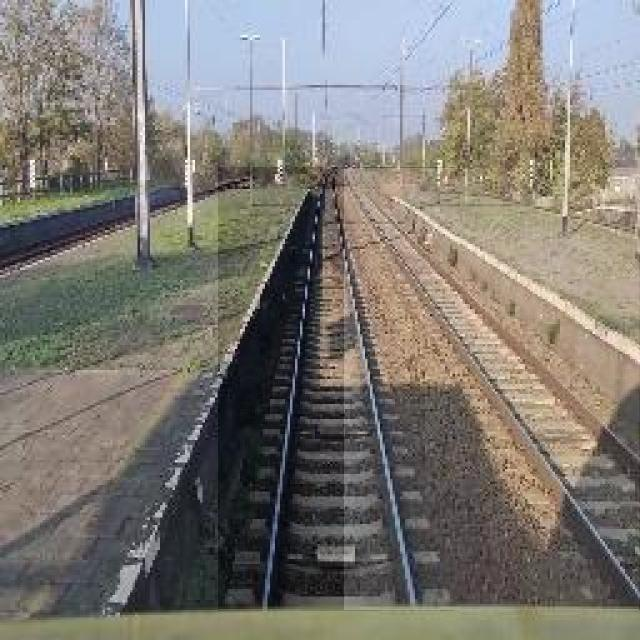rail: (345, 170, 640, 611), (219, 169, 455, 612)
